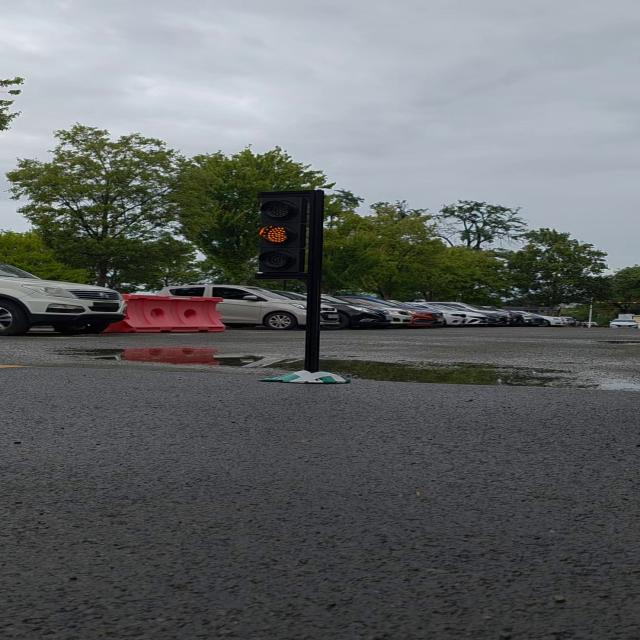yellow: (253, 186, 323, 289)
